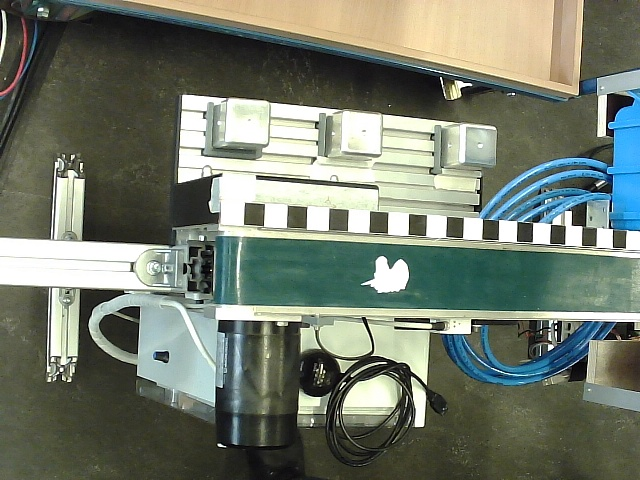unicorn: (360, 255, 410, 294)
